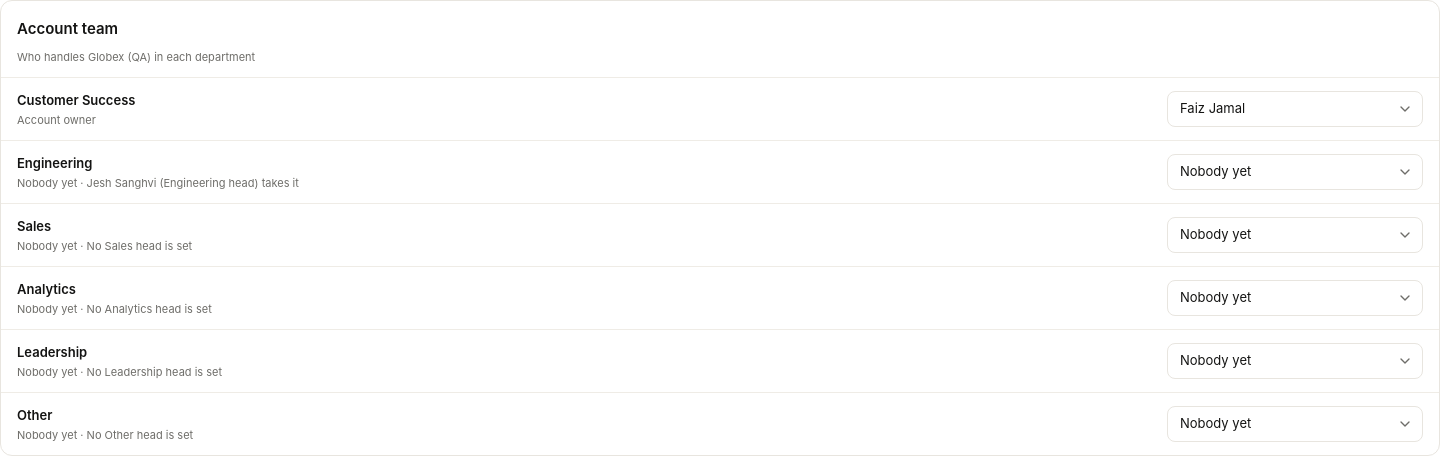
AccountTeamCard (Slack escalations D2, spec §4.4) › offers only active people of the department and saves the choice
The width and height of the screenshot is (1440, 473).
Select "Erin Engineer" in the 2nd dropdown named "Engineering on the account team" at (1295,172), box [1167,154,1423,190]
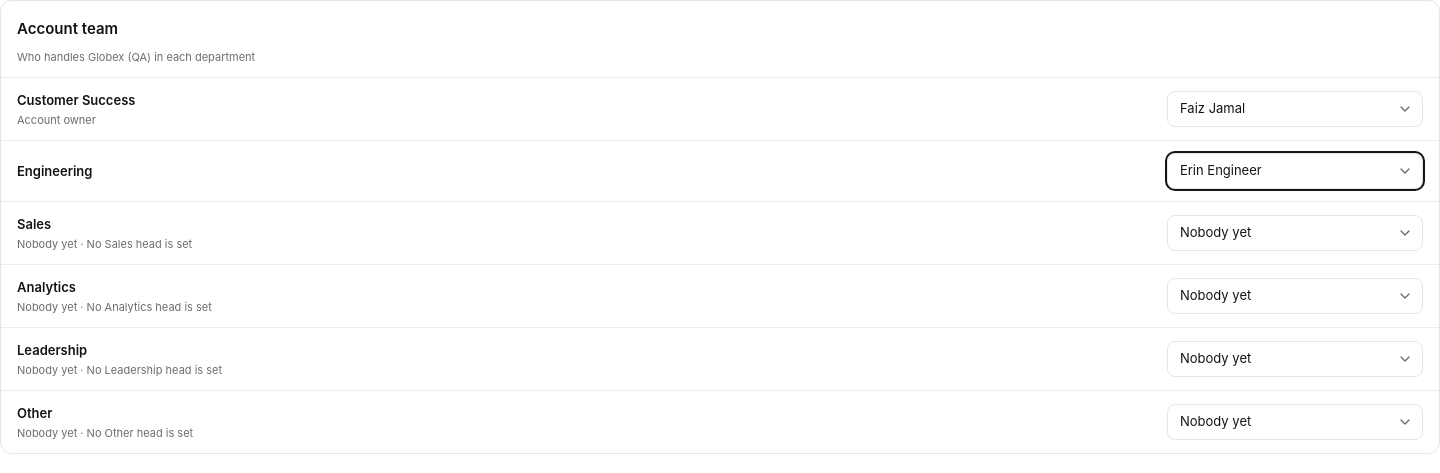
expect the text "takes it" is gone: met
